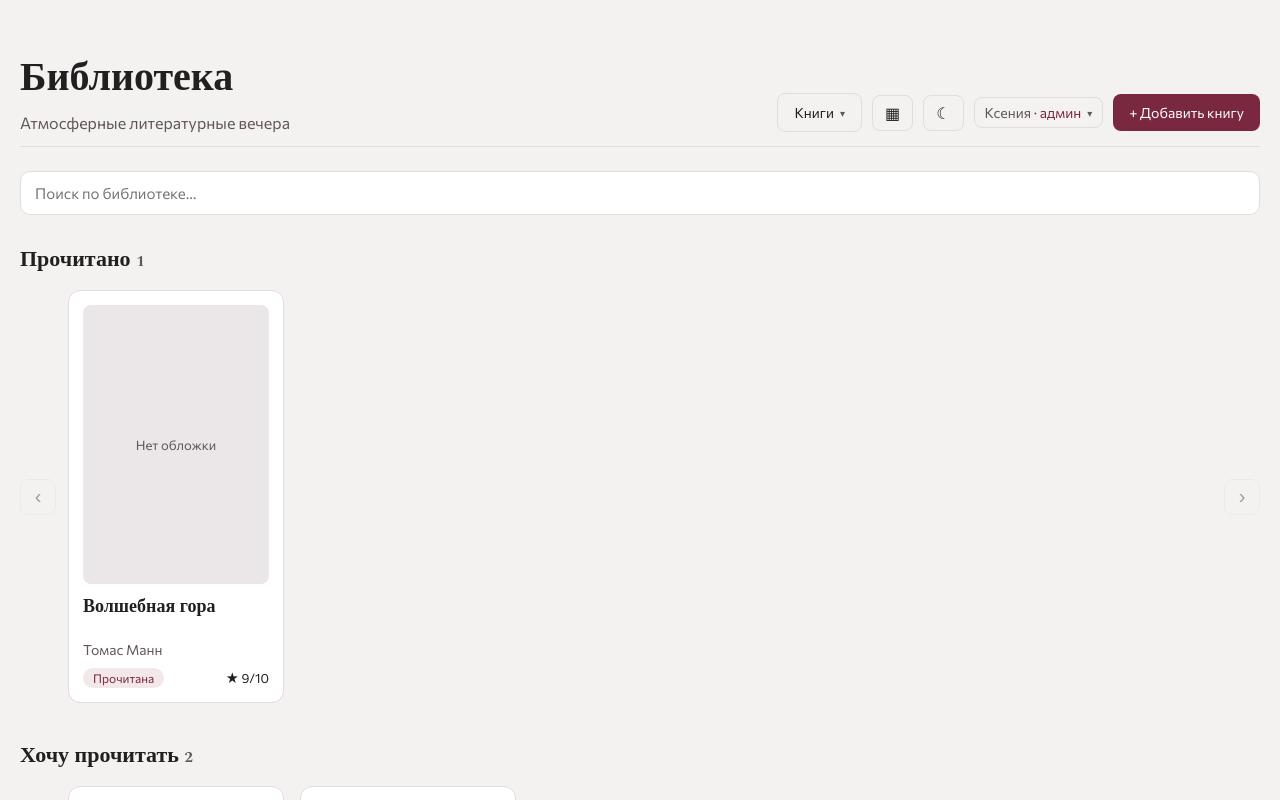
Scenario: меню закрыто по умолчанию и открывается кликом
expect the heading "Волшебная гора" is shown: met, box [83, 593, 215, 620]
expect the menu item "Авторы" is not shown: met
Click the button "Книги ▾".
click(820, 112)  # box [777, 93, 862, 132]
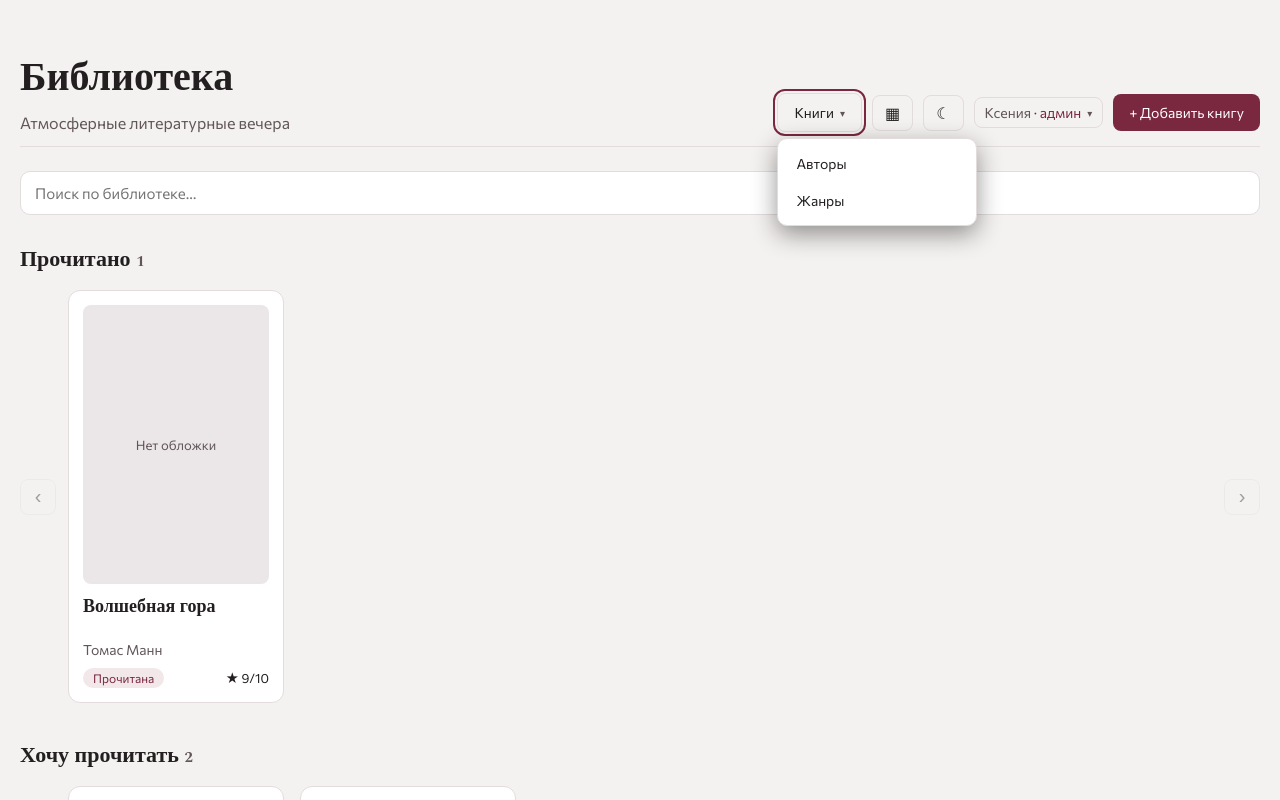
expect the menu item "Авторы" is shown: met, box [796, 155, 847, 172]
